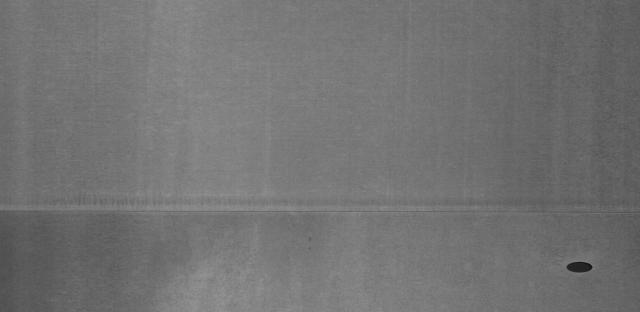punching_hole: (560, 260, 597, 278)
welding_line: (2, 202, 636, 222)
